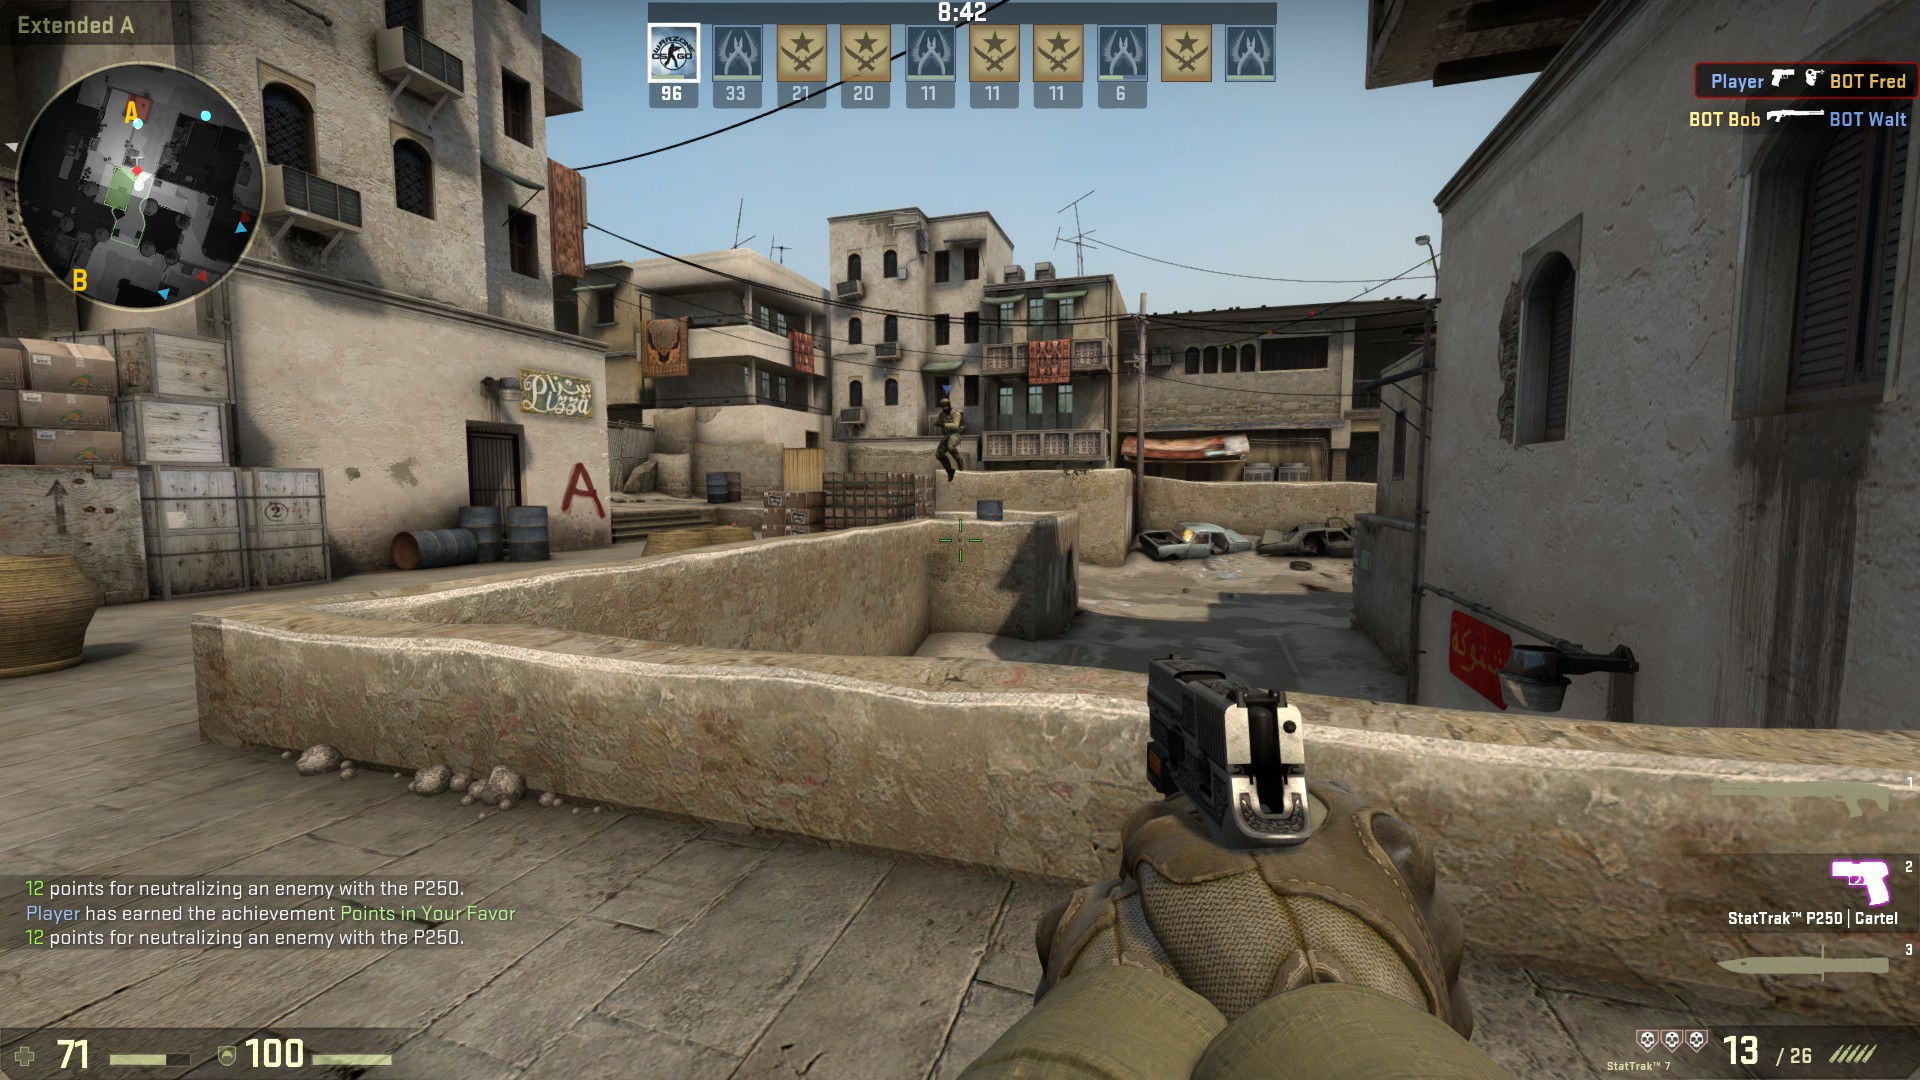c: (931, 398, 964, 480)
ch: (936, 397, 955, 415)
